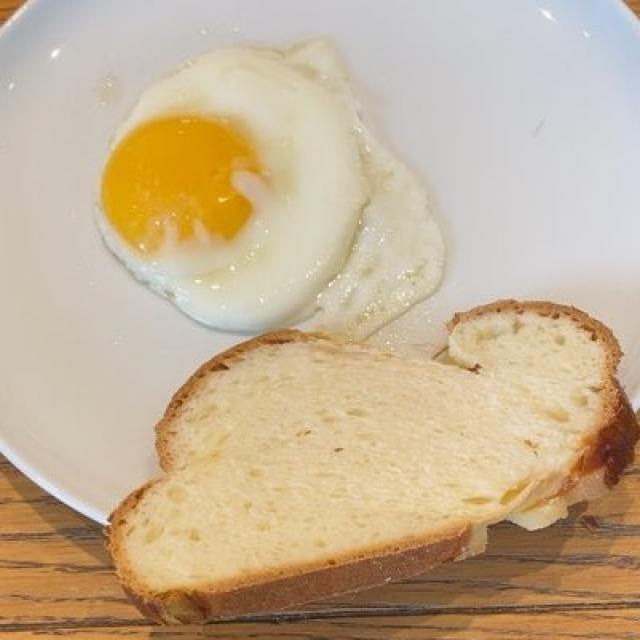bread: (120, 308, 625, 607)
egg: (100, 42, 441, 330)
